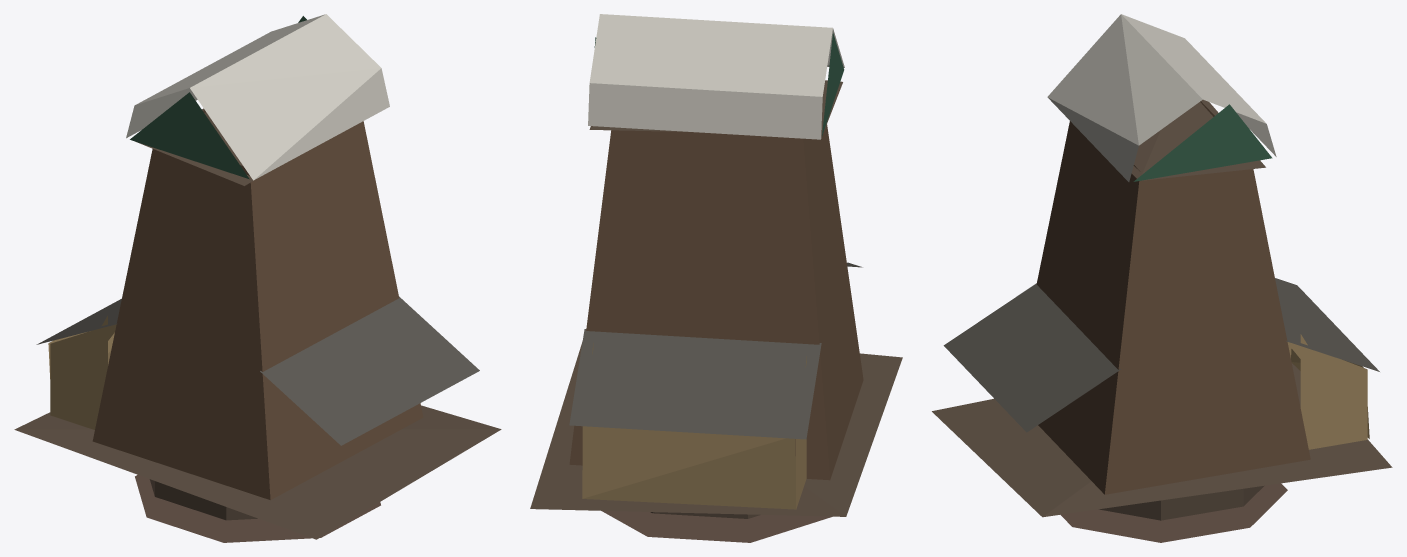
Rendered from de-otter.lod2.glb.
3 renders of one model, left to right at view 1: azimuth 30°, elevation 25°; view 2: azimuth 150°, elevation 25°; view 3: azimuth 270°, elevation 25°, orthographic. The views are drawn at different scales.
Parts seen in each view (by area): view 1: lod2; view 2: lod2; view 3: lod2.
Boxes of the visible parts, x1=… form: lod2: x1=14, y1=14, x2=501, y2=542; lod2: x1=530, y1=14, x2=902, y2=542; lod2: x1=932, y1=14, x2=1392, y2=542.
Size of the model in its own units: 11.24 by 12.9 by 12.45.
